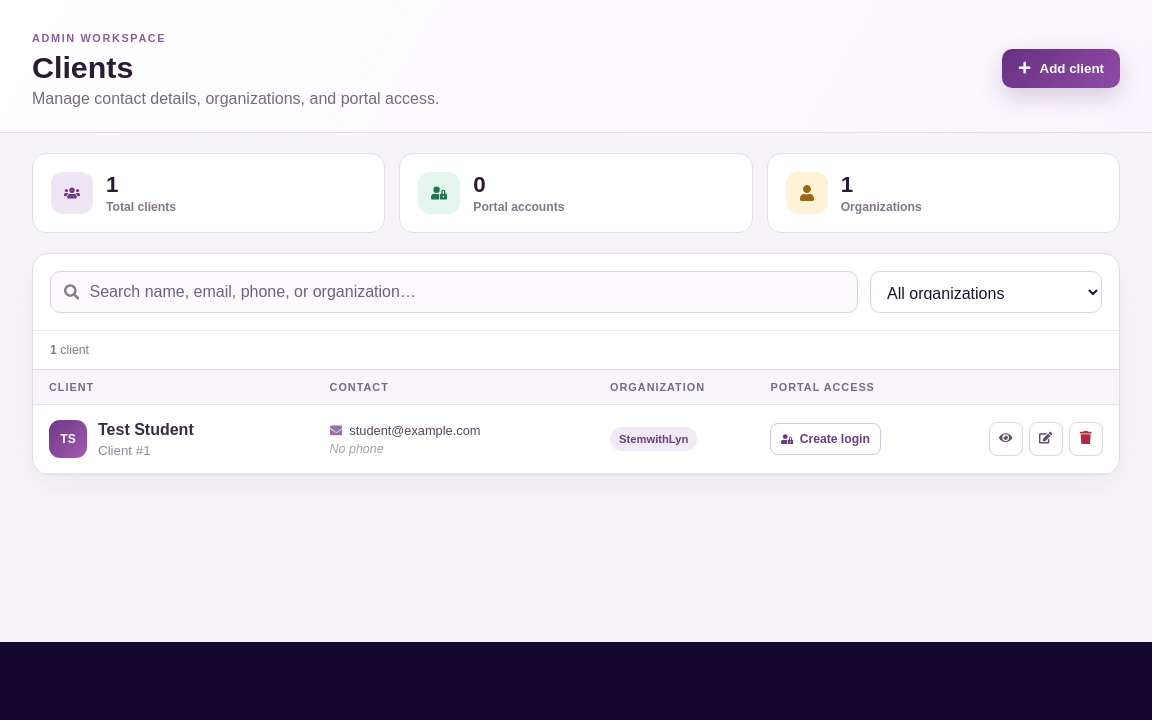
Scenario: client info shows appointment statuses and package usage rather than generic package labels
Click the button named "View Test Student's portal".
click(1006, 439)  # box [989,422,1023,456]
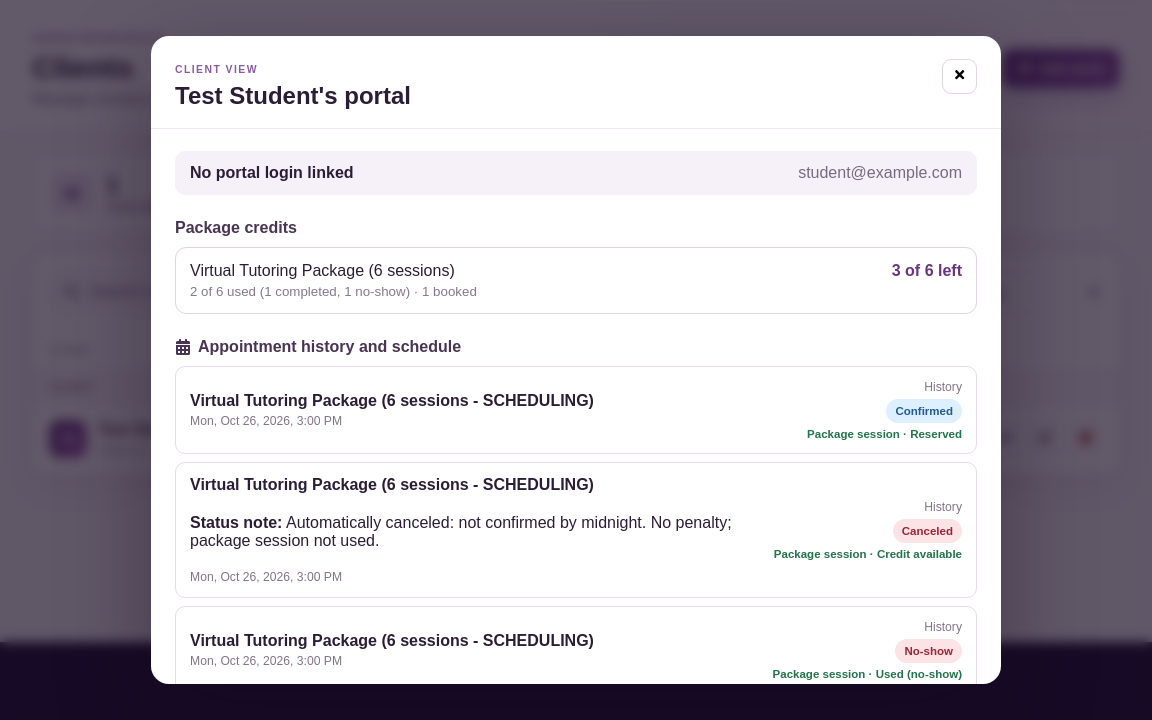
Check: the text "3 of 6 left" is shown, box [892,262,962,280]
Check: the text "2 of 6 used (1 completed, 1 no-show) · 1 booked" is shown, box [190,284,477,299]
Check: the text "No-show" is shown, box [895,639,962,663]
